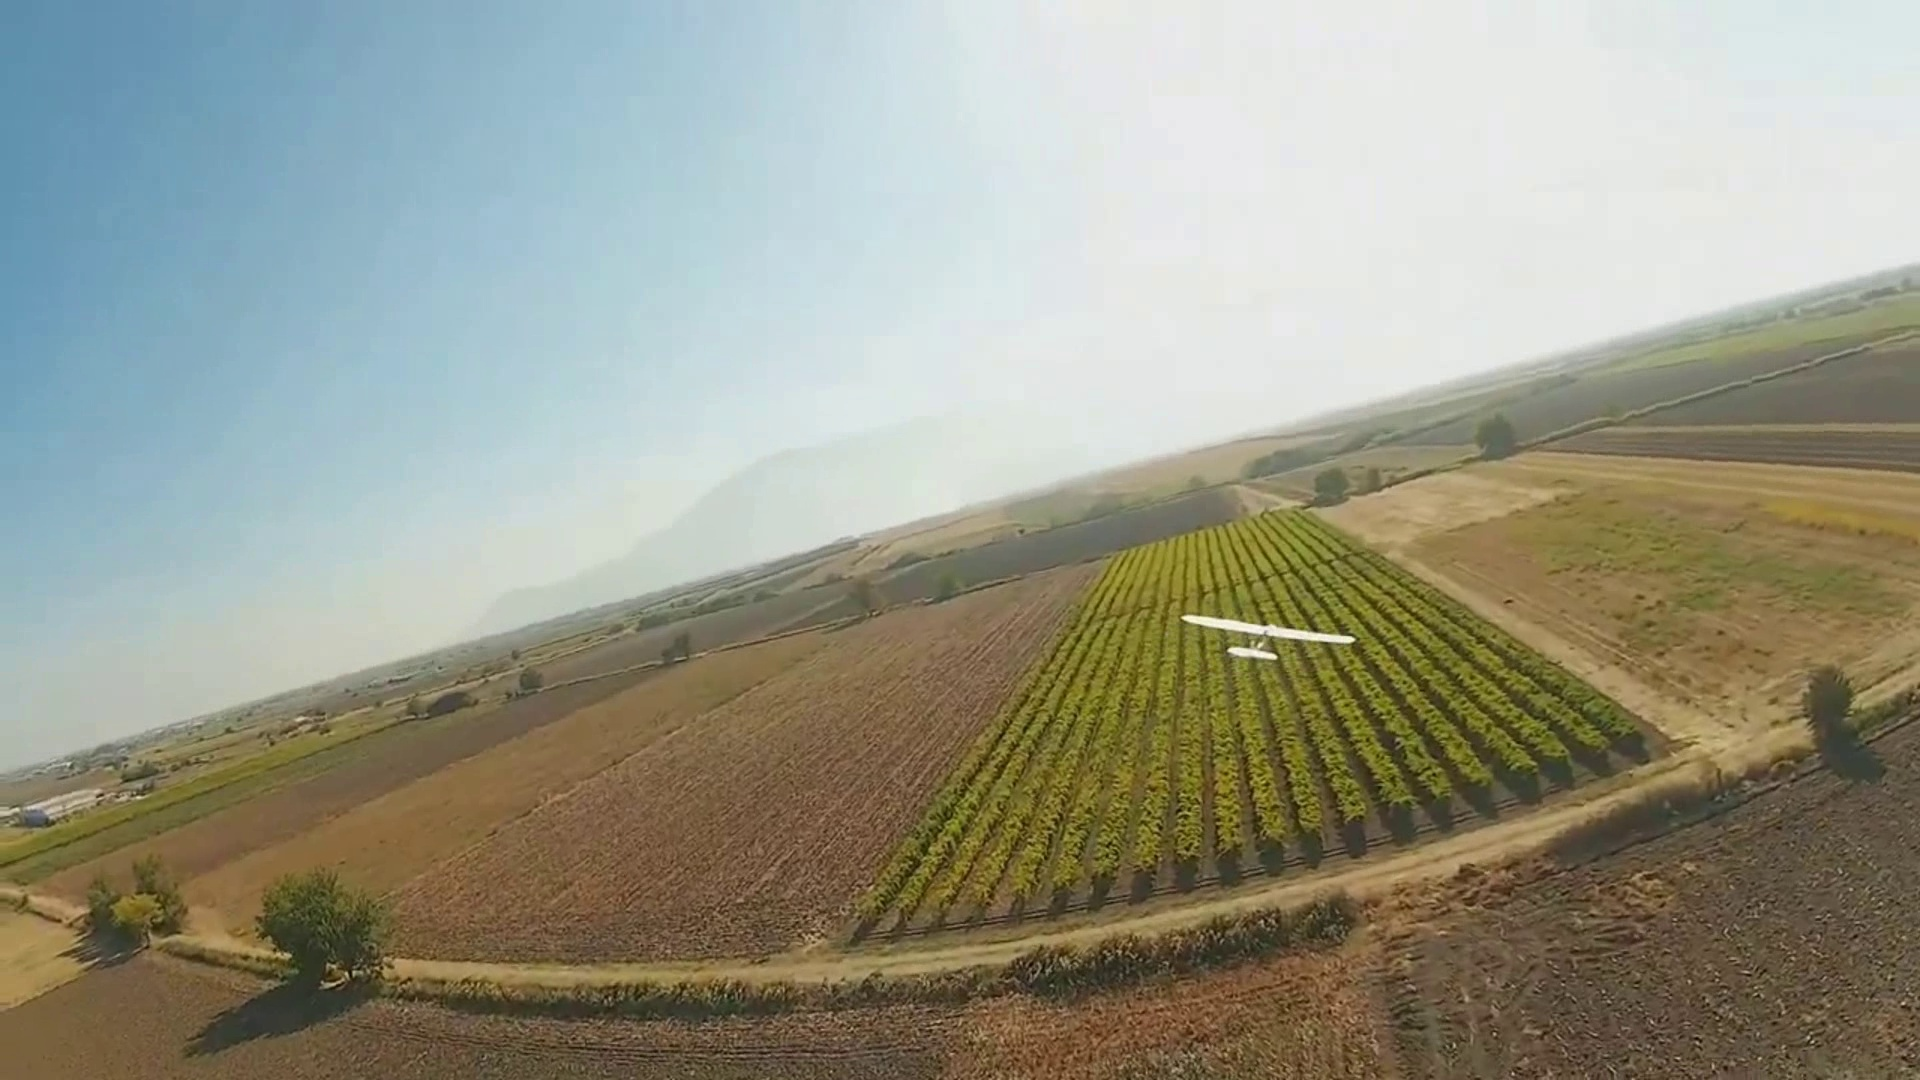airplane: (103, 253, 1919, 698)
